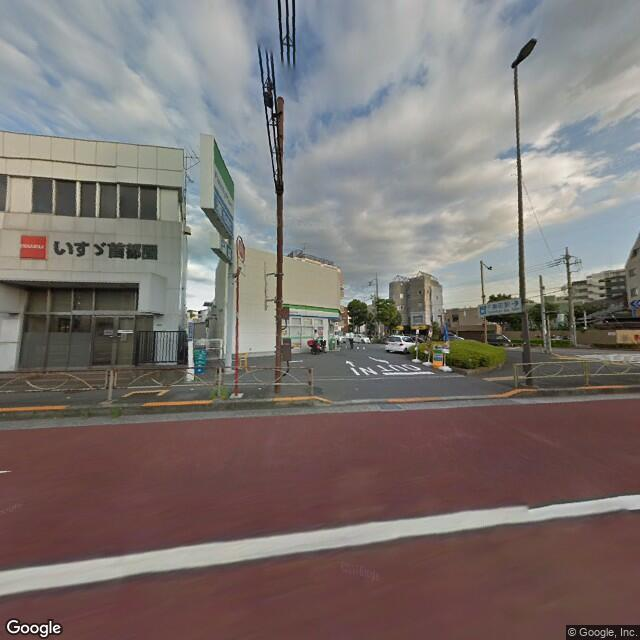family_mart: (211, 142, 238, 230), (281, 300, 340, 324)
